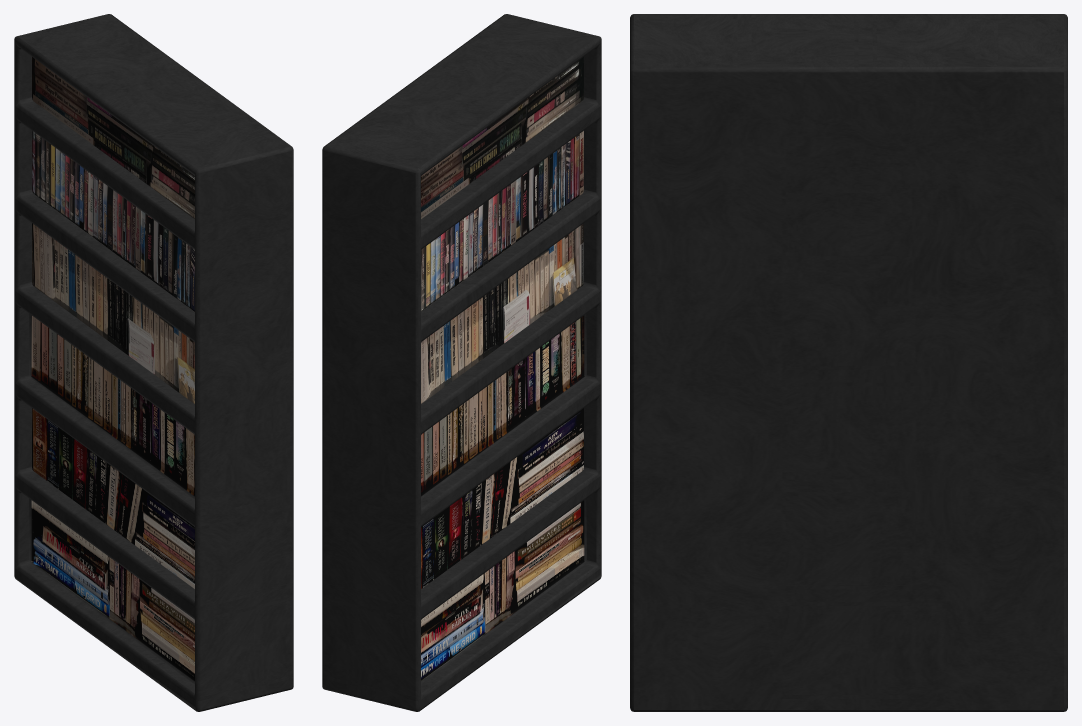
Rendered from bookShelf.glb.
3 views of the same model, side by side, from view 1: azimuth 30°, elevation 25°; view 2: azimuth 150°, elevation 25°; view 3: azimuth 270°, elevation 25° (orthographic). The views are drawn at different scales.
Parts seen in each view (by area): view 1: Shelf2BAKE; view 2: Shelf2BAKE; view 3: Shelf2BAKE.
Part boxes in pixels (box(x1,y1,x2,y2)): Shelf2BAKE: box(14, 14, 293, 711); Shelf2BAKE: box(322, 14, 601, 711); Shelf2BAKE: box(630, 14, 1067, 711).
Size of the model in its own units: 0.2547 by 1.35 by 0.8334.
Materials: 1 (1 with a texture image).
